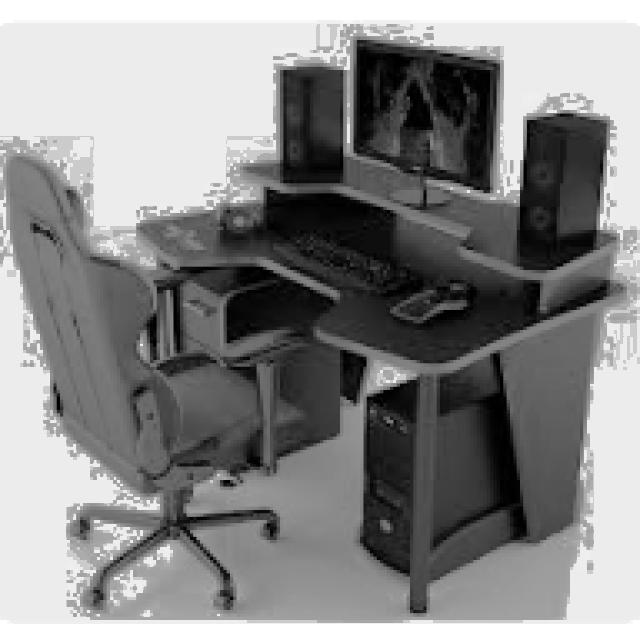book: (3, 153, 307, 610)
table: (133, 160, 627, 613)
